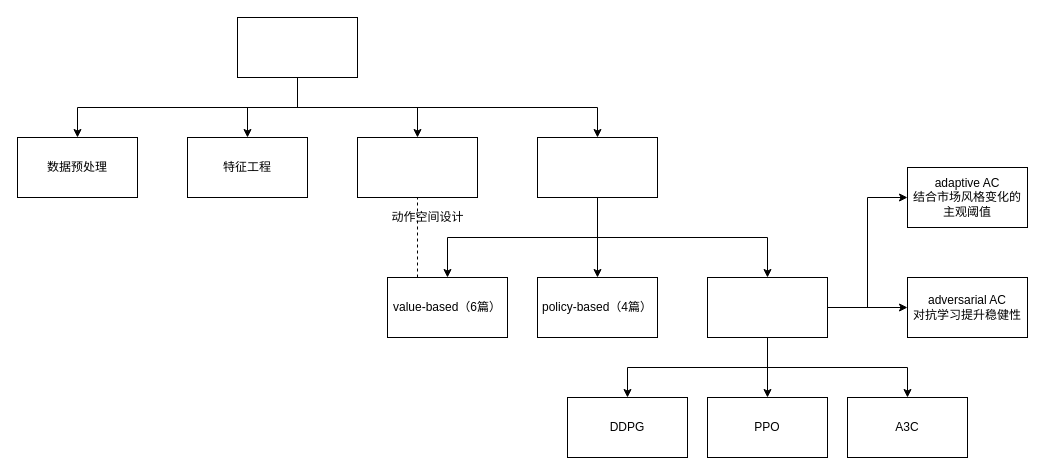
Some shapes in this 1045 by 475 pixel diagram are drawn without their labels. Each missing label, with the centre of its shape:
model-free方法: [297,47]
强化学习建模: [417,167]
强化学习算法: [597,167]
类actor-critic（大多数）: [767,307]
